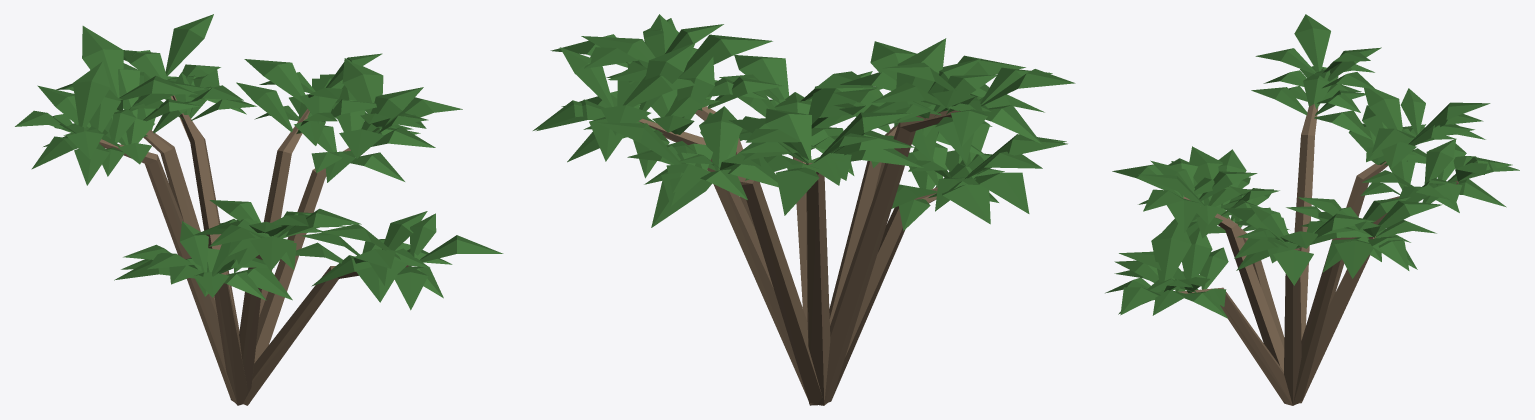
Rendered from shrub_lod1.glb.
3 renders of one model, left to right at view 1: azimuth 30°, elevation 25°; view 2: azimuth 150°, elevation 25°; view 3: azimuth 270°, elevation 25°, orthographic. The views are drawn at different scales.
Parts seen in each view (by area): view 1: shrub; view 2: shrub; view 3: shrub.
Part boxes in pixels (box(x1,y1,x2,y2)): shrub: box(15, 14, 503, 405); shrub: box(533, 14, 1075, 405); shrub: box(1105, 14, 1519, 405).
Bounding box in the file's own units: 1.25 × 0.8965 × 1.13.
